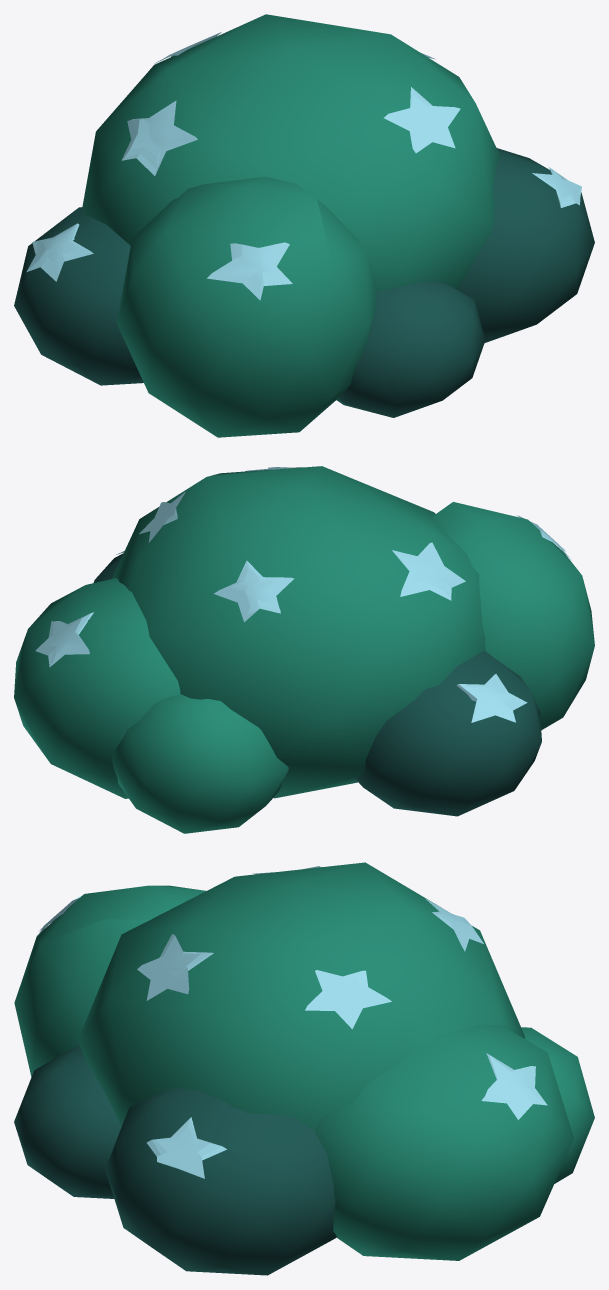
The model's file is Bush_002.fbx.
The picture shows the model from 3 angles, top to bottom: view 1: azimuth 30°, elevation 25°; view 2: azimuth 150°, elevation 25°; view 3: azimuth 270°, elevation 25°; orthographic projection. The views are drawn at different scales.
Visible parts, largest first — view 1: Bush.002, Star.009, Star.010, Star.011, Star.015, Star.012; view 2: Bush.002, Star.014, Star.009, Star.015, Star.013, Star.016; view 3: Bush.002, Star.016, Star.012, Star.011, Star.013, Star.014.
Boxes of the visible parts, x1,y1,x2,y2 form: Bush.002: [14, 14, 594, 437]; Star.009: [121, 100, 197, 175]; Star.010: [207, 242, 292, 300]; Star.011: [384, 87, 460, 153]; Star.015: [26, 223, 93, 281]; Star.012: [532, 167, 581, 207]; Bush.002: [14, 466, 594, 833]; Star.014: [214, 560, 294, 622]; Star.009: [392, 542, 465, 600]; Star.015: [456, 674, 527, 722]; Star.013: [35, 612, 93, 666]; Star.016: [139, 491, 185, 542]; Bush.002: [14, 862, 594, 1275]; Star.016: [305, 970, 391, 1029]; Star.012: [146, 1117, 226, 1178]; Star.011: [137, 934, 213, 1000]; Star.013: [481, 1053, 547, 1119]; Star.014: [426, 899, 483, 951].
Size of the model in its own units: 211 by 113 by 203.
